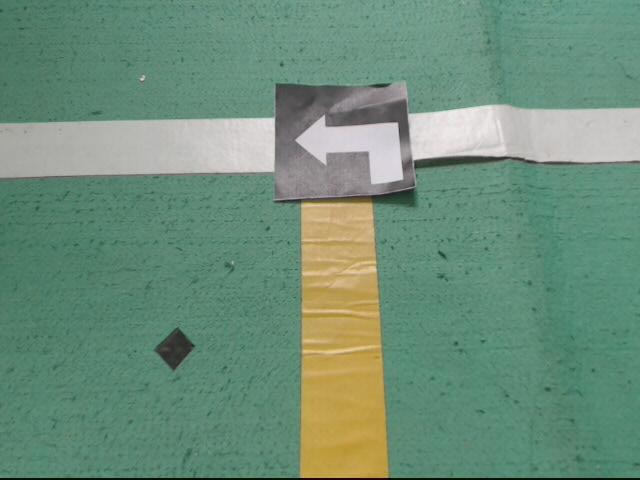left: (270, 80, 417, 204)
